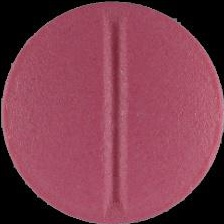43063-064: (0, 0, 224, 224)
